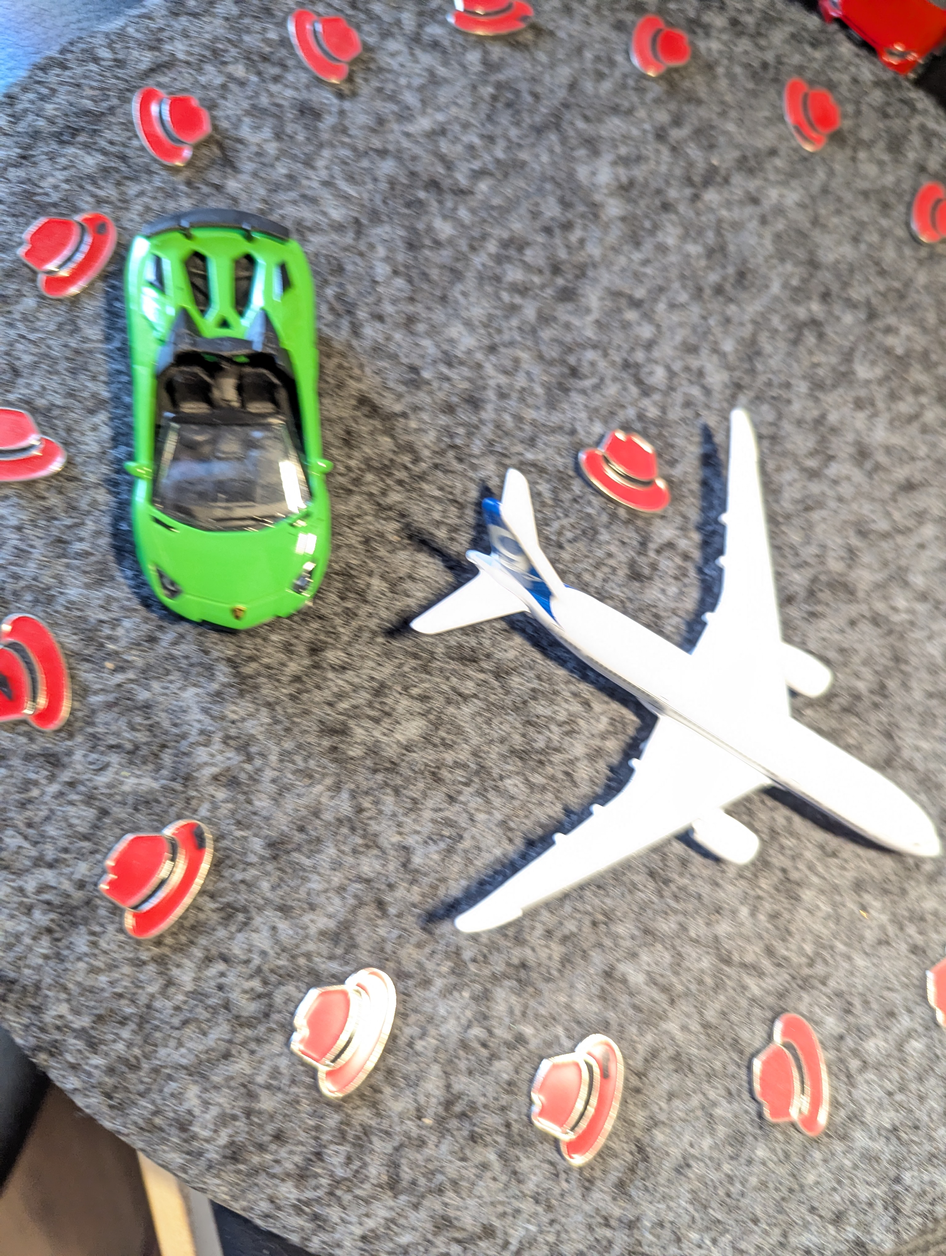Airplane: (404, 373, 946, 964)
Car: (87, 193, 362, 642)
Red-Hat: (511, 1008, 656, 1187), (85, 805, 245, 961), (278, 949, 409, 1110), (732, 993, 848, 1156), (9, 189, 134, 308), (0, 589, 82, 768), (564, 409, 682, 524), (109, 72, 223, 180), (750, 54, 851, 168), (263, 0, 372, 94), (0, 389, 80, 514), (614, 6, 704, 85), (439, 0, 554, 53), (899, 157, 946, 269)
Scratch: (776, 100, 834, 158), (180, 819, 224, 862), (593, 1038, 627, 1085), (0, 661, 31, 710), (506, 5, 544, 41), (86, 211, 118, 243)
